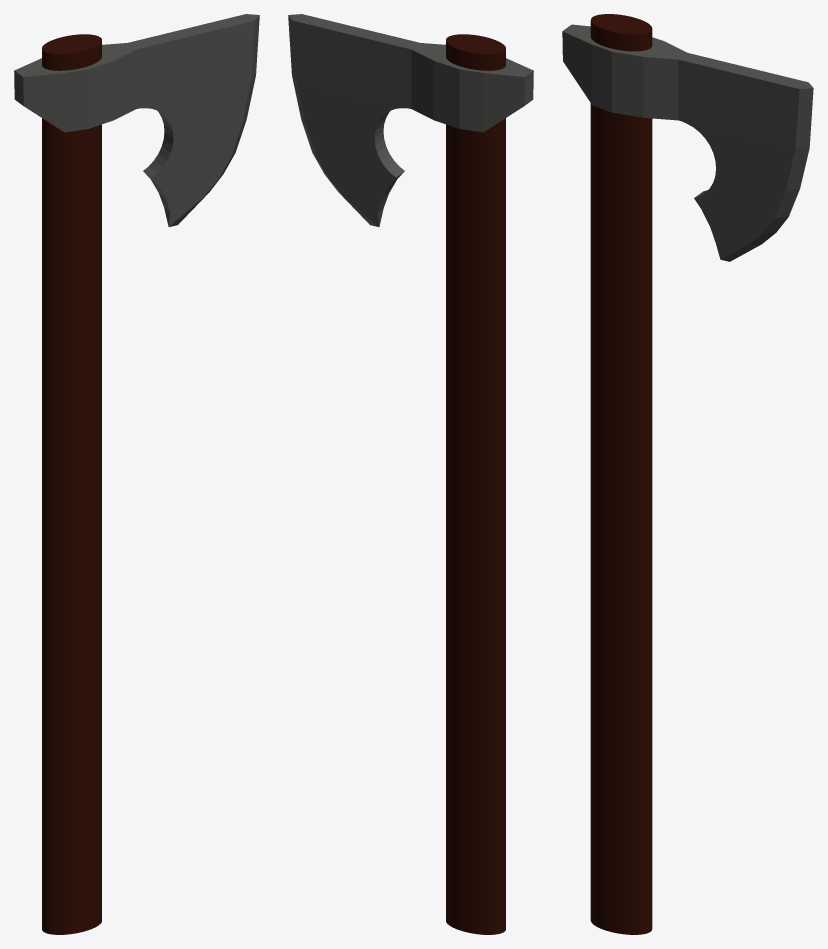
Rendered from ToporV2_Skeletal.FBX.
3 views of the same model, side by side, from view 1: azimuth 30°, elevation 25°; view 2: azimuth 150°, elevation 25°; view 3: azimuth 330°, elevation 25° (orthographic). The views are drawn at different scales.
Visible parts, largest first — view 1: ToporV2; view 2: ToporV2; view 3: ToporV2.
Boxes of the visible parts, x1,y1,x2,y2 form: ToporV2: (14,14,259,934); ToporV2: (288,14,533,934); ToporV2: (562,14,813,934).
Bounding box in the file's own units: 29.1 × 5.39 × 102.
